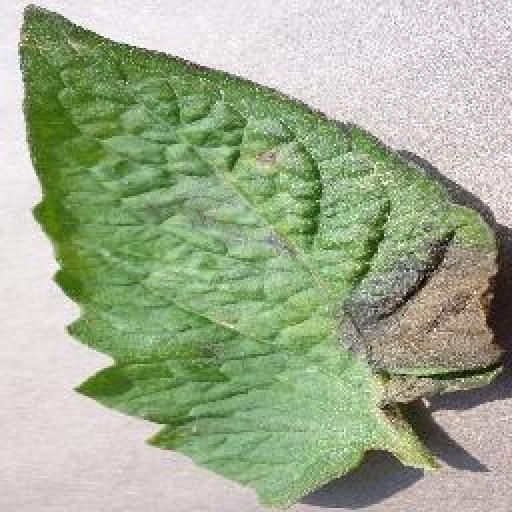Late Blight: (17, 5, 512, 512)
